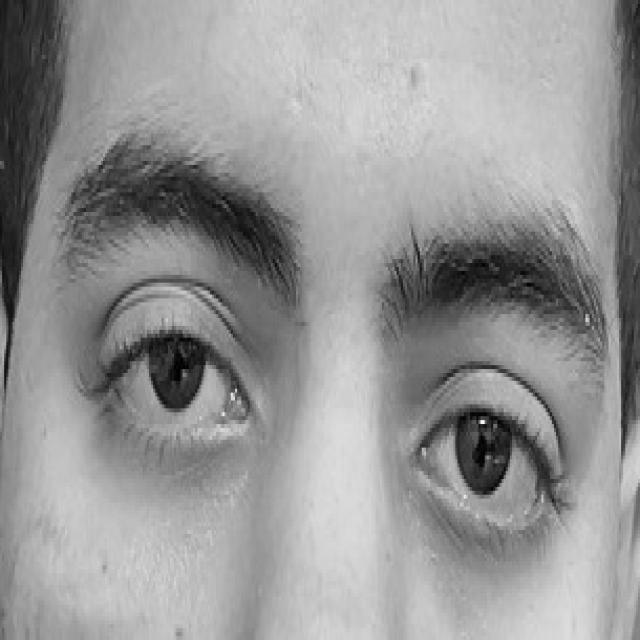real: (64, 206, 592, 604)
